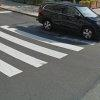Crosswalk: (1, 21, 50, 77)
